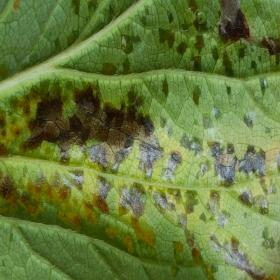Angular Leafspot: (0, 0, 279, 279)
